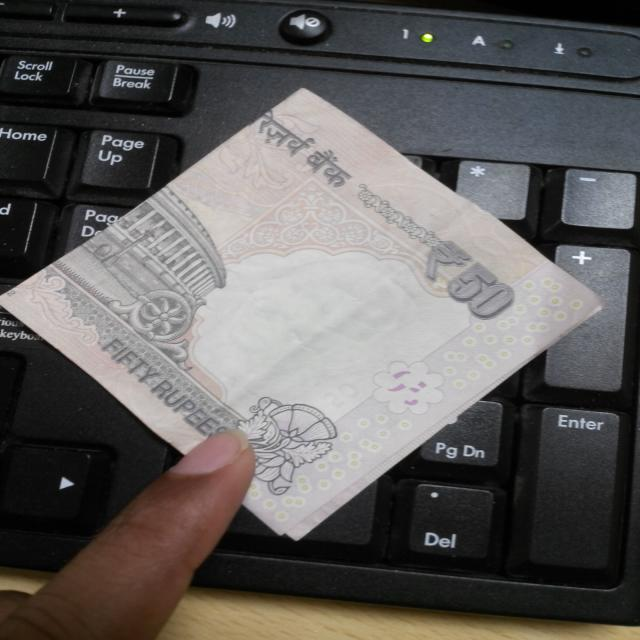50rs: (12, 81, 630, 540)
